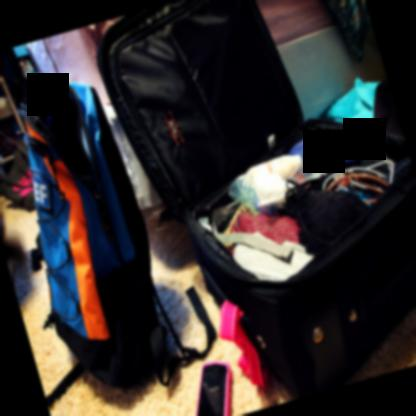backpack: (22, 80, 217, 404)
suitcase: (93, 0, 416, 399)
